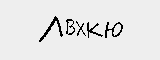Б: (67, 27, 85, 47)
Е: (24, 23, 44, 45)
К: (114, 18, 135, 38)
С: (86, 24, 102, 41)
Э: (46, 23, 65, 45)
Ғ: (102, 20, 115, 39)
